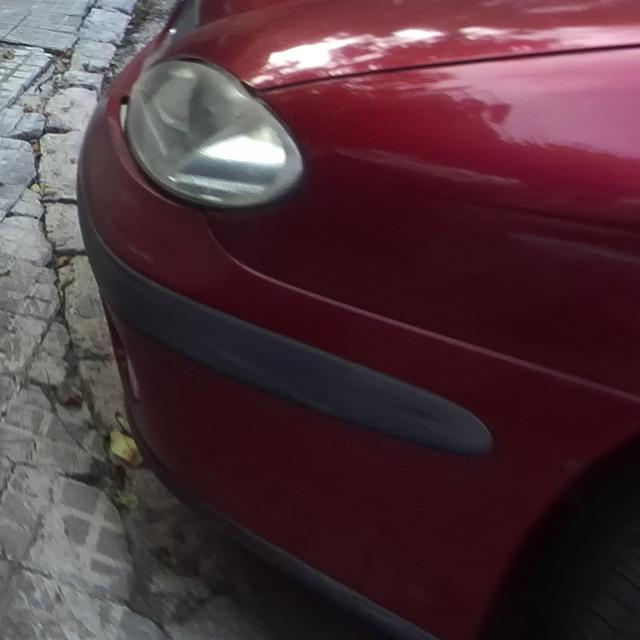calcada_quebrada: (3, 38, 43, 56), (2, 207, 35, 223)
